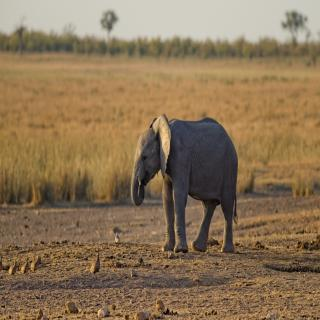Elephant: (129, 111, 246, 265)
